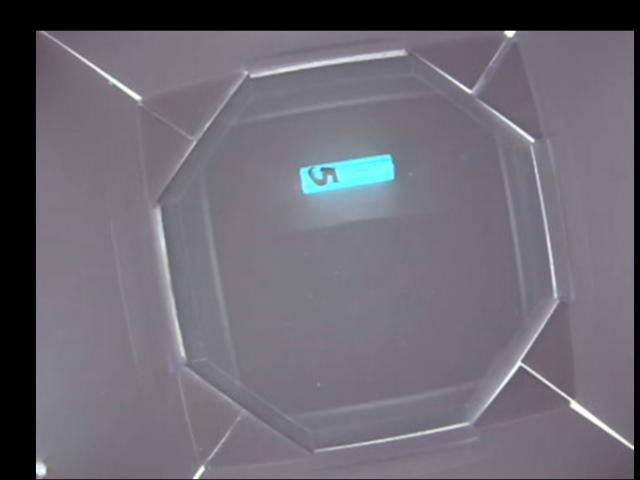Battery: (301, 154, 396, 188)
